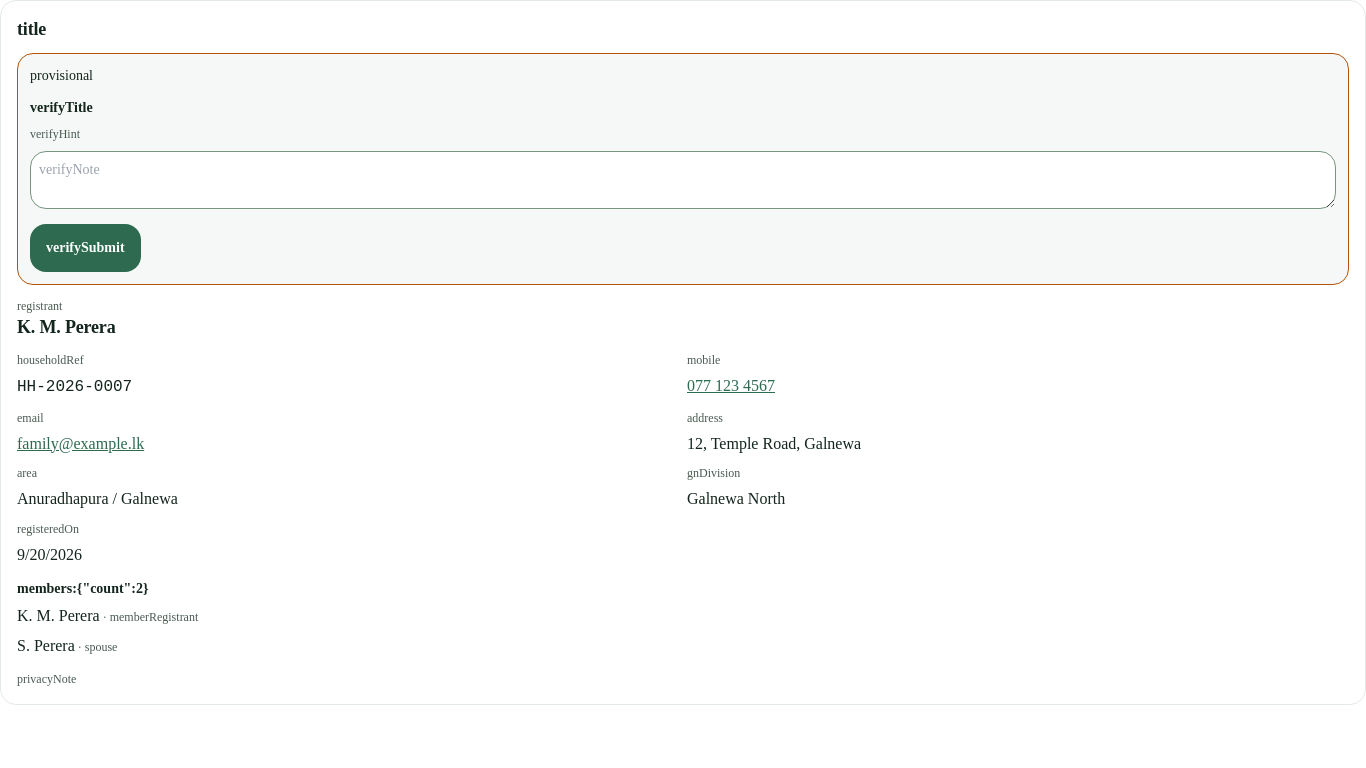
Test case: a household a field officer registered › lets the DS office verify it with a written note, then reloads
Check: the element with test id "claimant-verify" is shown, box [30,98,1336,272]
Click the button "verifySubmit".
click(85, 248)  # box [30,224,141,272]
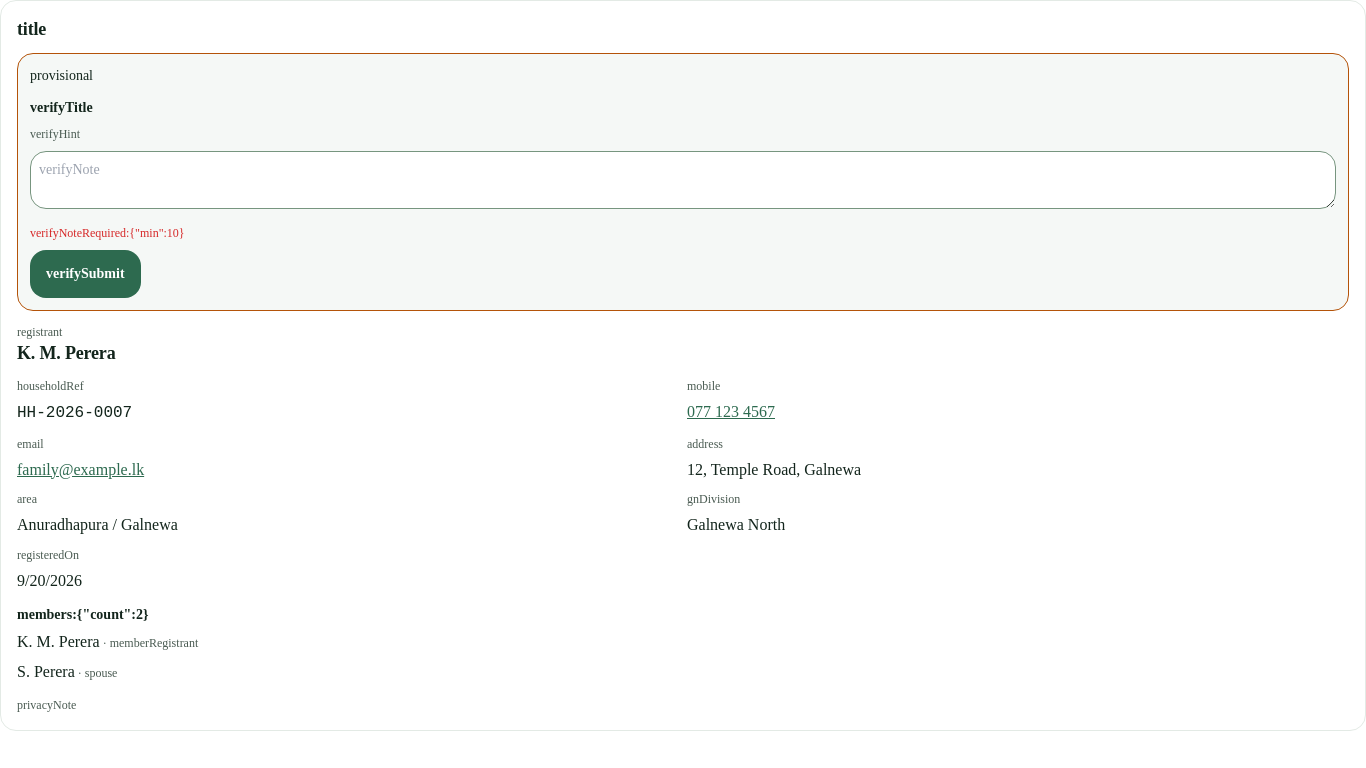
Check: the message shows "verifyNoteRequired", box [30,226,185,240]
Type "Checked the NIC card and GN register" into the text box labelled "verifyNote".
click(683, 180); type("Checked the NIC card and GN register")  # box [30,152,1336,209]
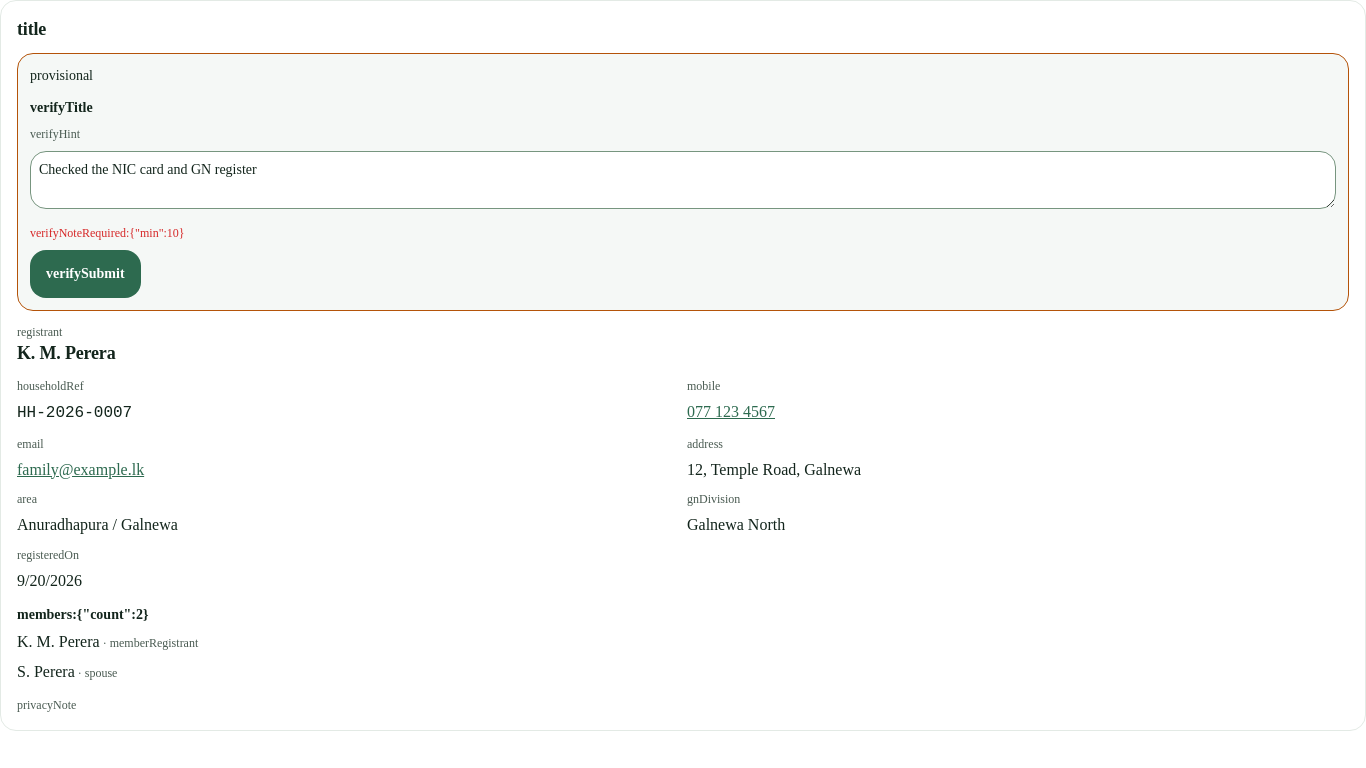
Click the button "verifySubmit".
click(85, 274)  # box [30,250,141,298]
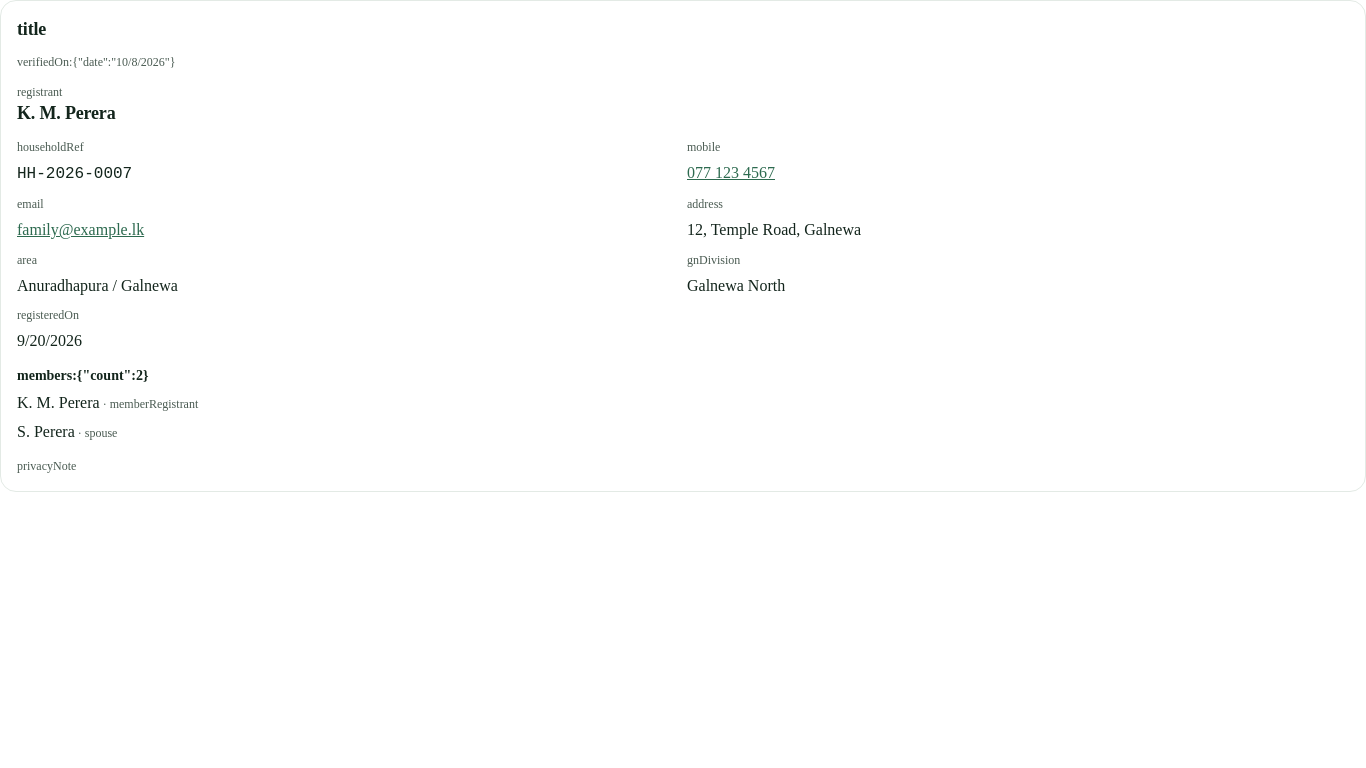
Check: the text "verifiedOn:{\"date\":\"10/8/2026\"}" is shown, box [17,55,175,69]
Check: the element with test id "claimant-provisional" is gone
